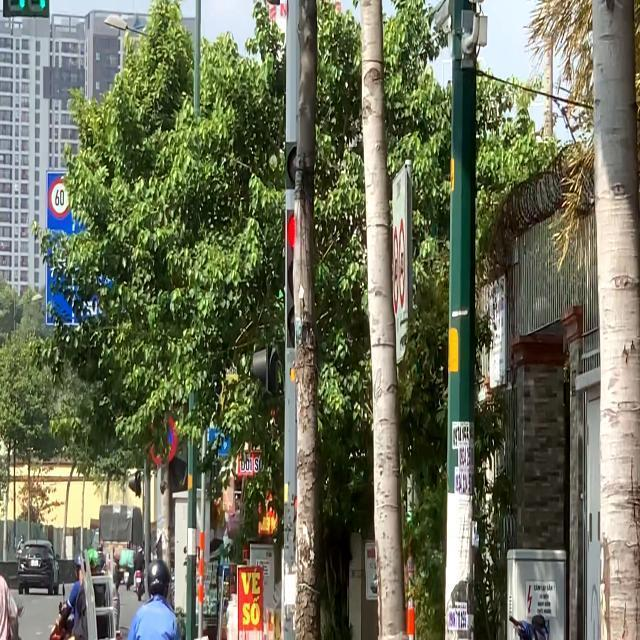127-toc-do-toi-da-60: (46, 178, 72, 218)
